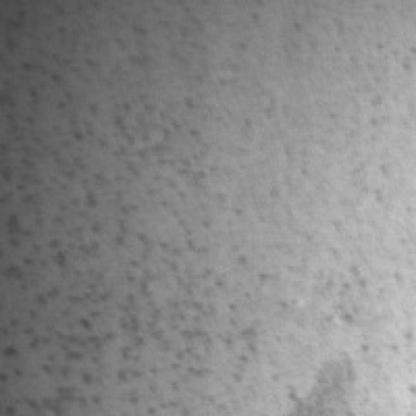pitted_surface: (2, 16, 235, 410), (231, 35, 389, 408), (196, 287, 376, 412)
